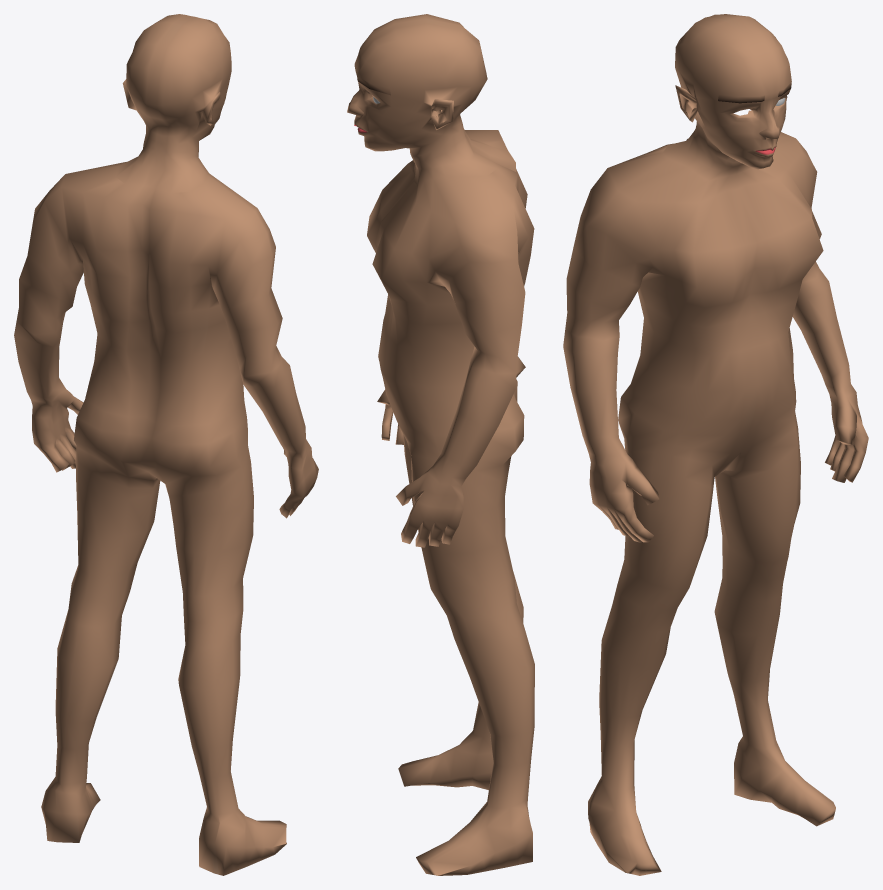
Rendered from boneco23.glb.
3 renders of one model, left to right at view 1: azimuth 30°, elevation 25°; view 2: azimuth 150°, elevation 25°; view 3: azimuth 270°, elevation 25°, orthographic. The views are drawn at different scales.
Parts seen in each view (by area): view 1: Plane.019; view 2: Plane.019; view 3: Plane.019.
Part boxes in pixels (bbox=[...]): Plane.019: bbox=[14, 14, 318, 875]; Plane.019: bbox=[347, 14, 534, 875]; Plane.019: bbox=[563, 14, 868, 875].
Bounding box in the file's own units: 0.9883 × 3.47 × 1.17.
